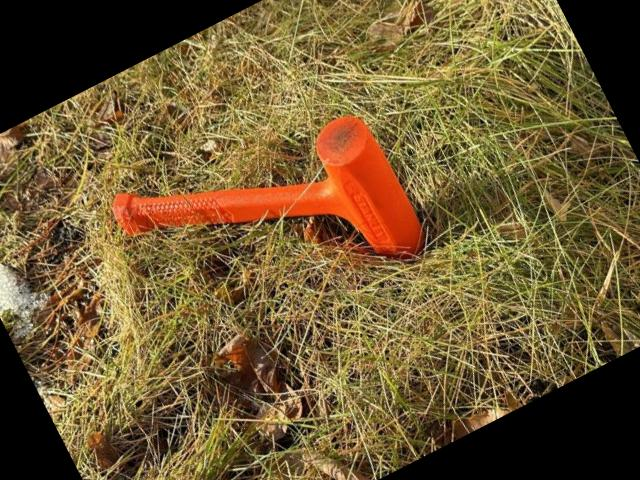hammer: (107, 76, 433, 366)
